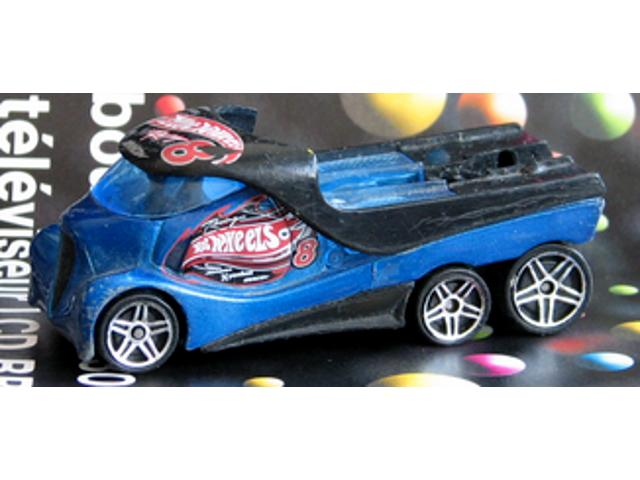toy-car: (27, 103, 608, 378)
